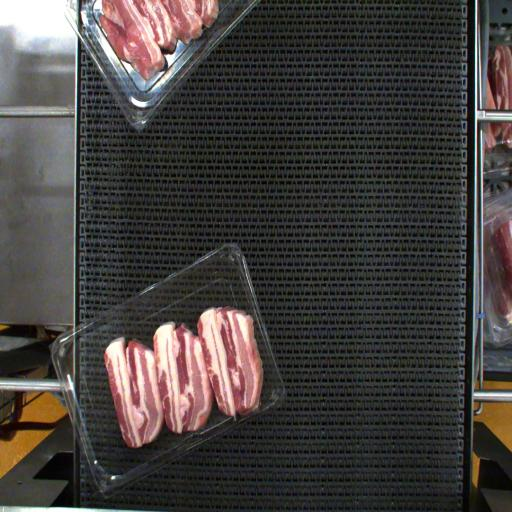packaging-error: (241, 398, 267, 425)
